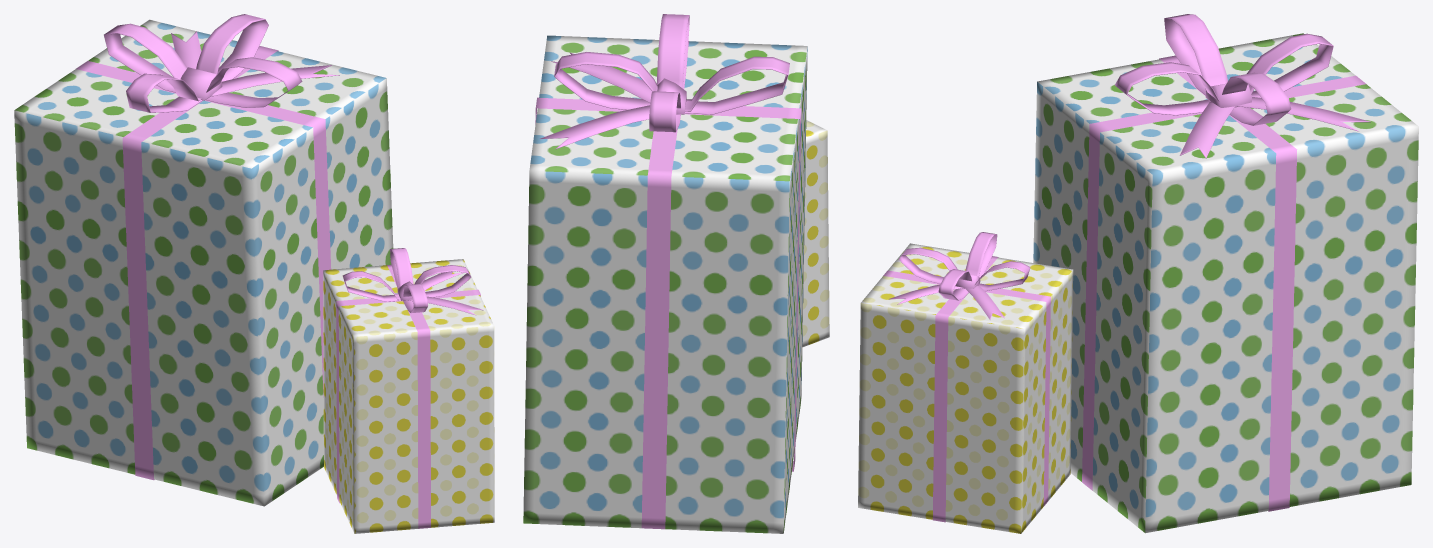
The model's file is Paket_8.glb.
The picture shows the model from 3 angles, left to right: view 1: azimuth 30°, elevation 25°; view 2: azimuth 150°, elevation 25°; view 3: azimuth 270°, elevation 25°; orthographic projection. The views are drawn at different scales.
Parts seen in each view (by area): view 1: Paket.007; view 2: Paket.007; view 3: Paket.007.
Boxes of the visible parts, left/top/right/bottom form: Paket.007: left=14, top=14, right=494, bottom=533; Paket.007: left=523, top=14, right=829, bottom=533; Paket.007: left=858, top=14, right=1418, bottom=533.
Size of the model in its own units: 0.932 by 1.1 by 1.37.
3 materials, 2 textured.
